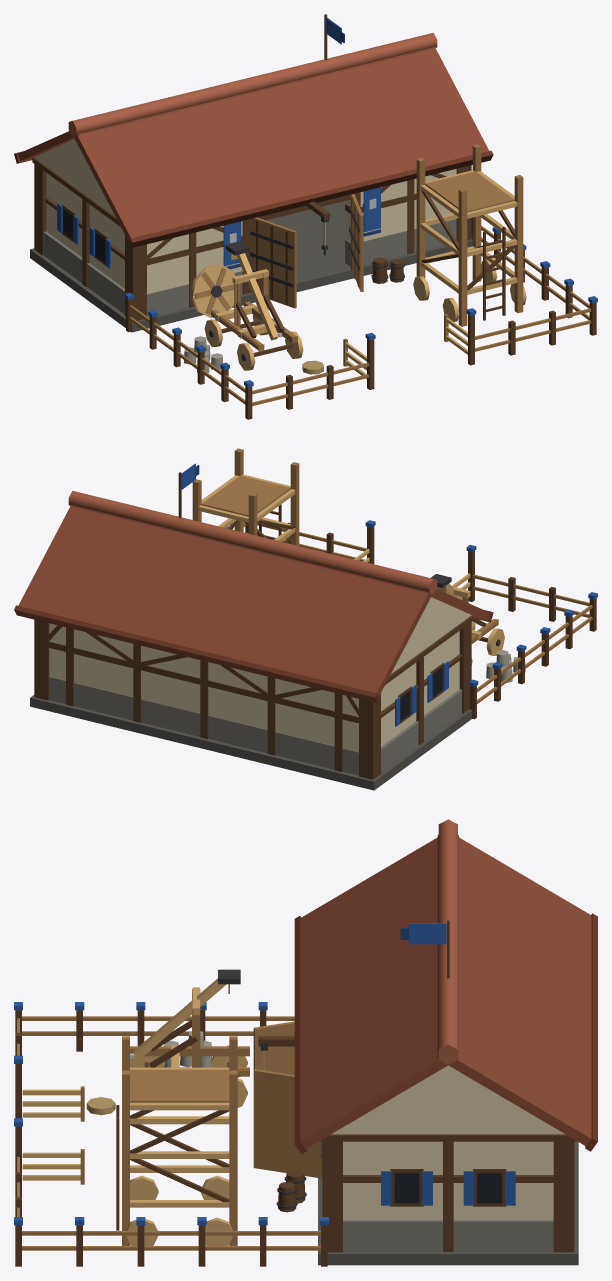
Rendered from siege-workshop.glb.
The picture shows the model from 3 angles, top to bottom: view 1: azimuth 30°, elevation 25°; view 2: azimuth 150°, elevation 25°; view 3: azimuth 270°, elevation 25°; orthographic projection. The views are drawn at different scales.
Visible parts, largest first — view 1: siege-workshop; view 2: siege-workshop; view 3: siege-workshop.
Part boxes in pixels (x1,y1,x2,y2): siege-workshop: (14, 14, 597, 419); siege-workshop: (14, 448, 597, 790); siege-workshop: (14, 819, 597, 1266).
Size of the model in its own units: 12.9 by 7.54 by 14.13.
1 material, 1 textured.
